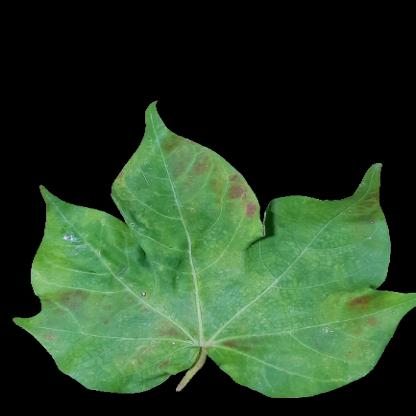curl_stage1: (48, 221, 123, 301), (190, 217, 252, 285), (223, 280, 293, 338), (301, 295, 383, 337), (116, 336, 166, 384), (320, 257, 361, 297), (183, 163, 229, 193)
healthy: (36, 315, 116, 348), (309, 200, 359, 252), (129, 251, 185, 289), (259, 349, 303, 393), (135, 295, 183, 329), (147, 176, 171, 205)
